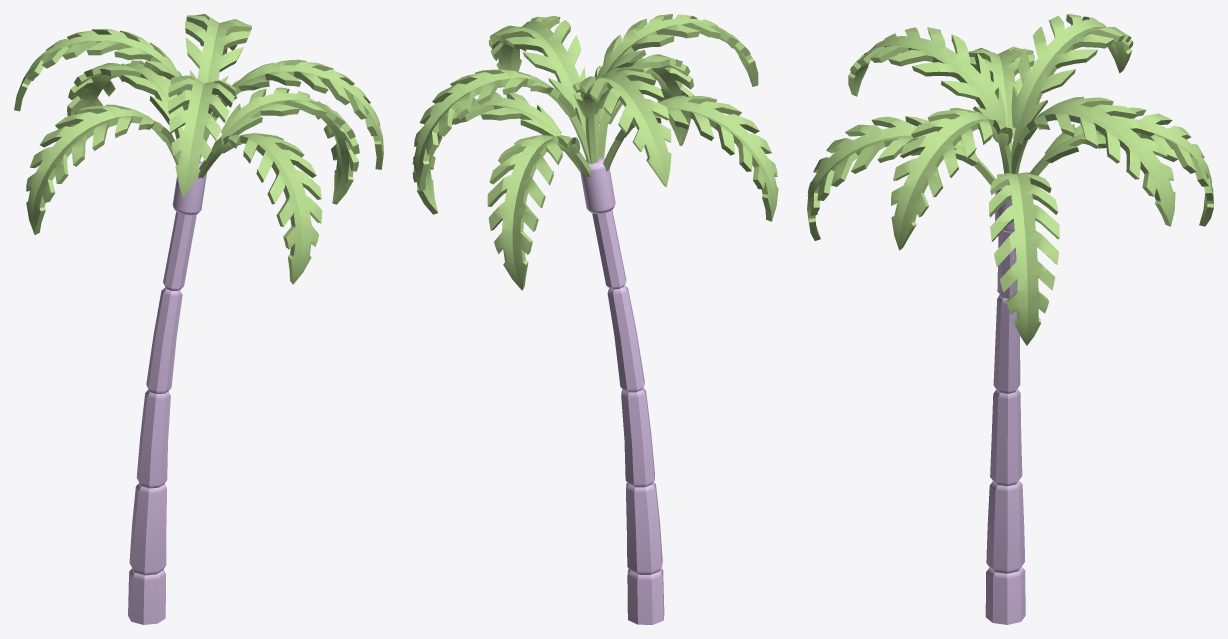
File: palm1.fbx
3 views of the same model, side by side, from view 1: azimuth 30°, elevation 25°; view 2: azimuth 150°, elevation 25°; view 3: azimuth 270°, elevation 25° (orthographic). The views are drawn at different scales.
Visible parts, largest first — view 1: palm1; view 2: palm1; view 3: palm1.
Part boxes in pixels (x1,y1,x2,y2): palm1: [14, 14, 383, 624]; palm1: [412, 14, 778, 624]; palm1: [807, 14, 1213, 624].
Bounding box in the file's own units: 4.57 × 7.32 × 4.6.
